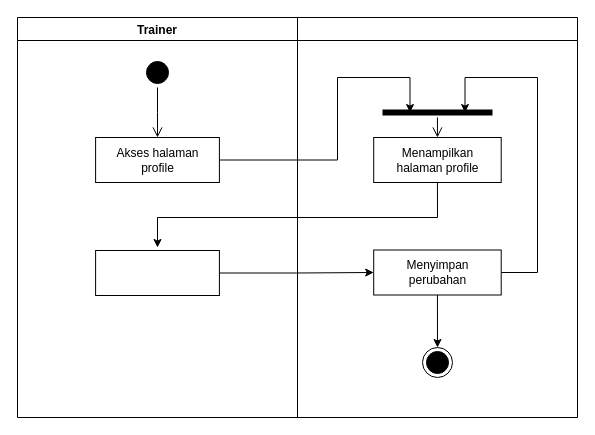
The diagram is 595 pixels wide and 435 high, and some of its shapes have lost their labels. Each missing label, with the box of its shape:
Ubah profile data: (95, 250, 219, 296)
Website: (296, 16, 578, 418)
